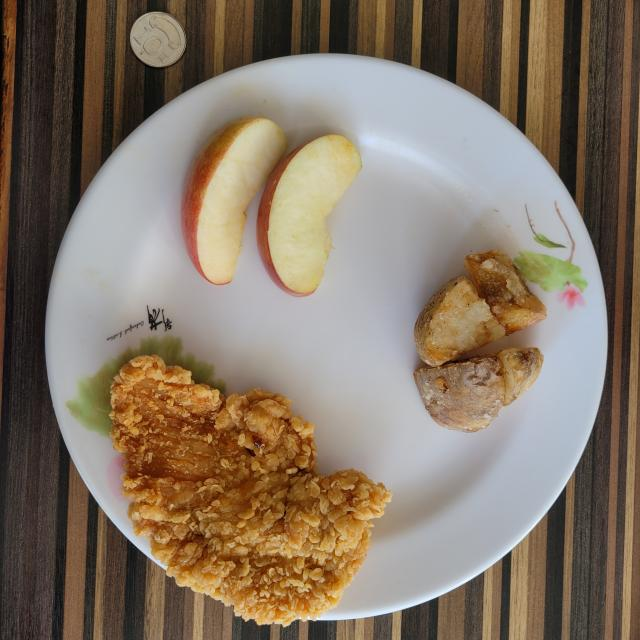apple -sliced-: (181, 118, 361, 296)
coin: (130, 12, 186, 68)
fried chicken cutlet: (110, 356, 390, 625)
fried potato: (414, 250, 546, 432)
